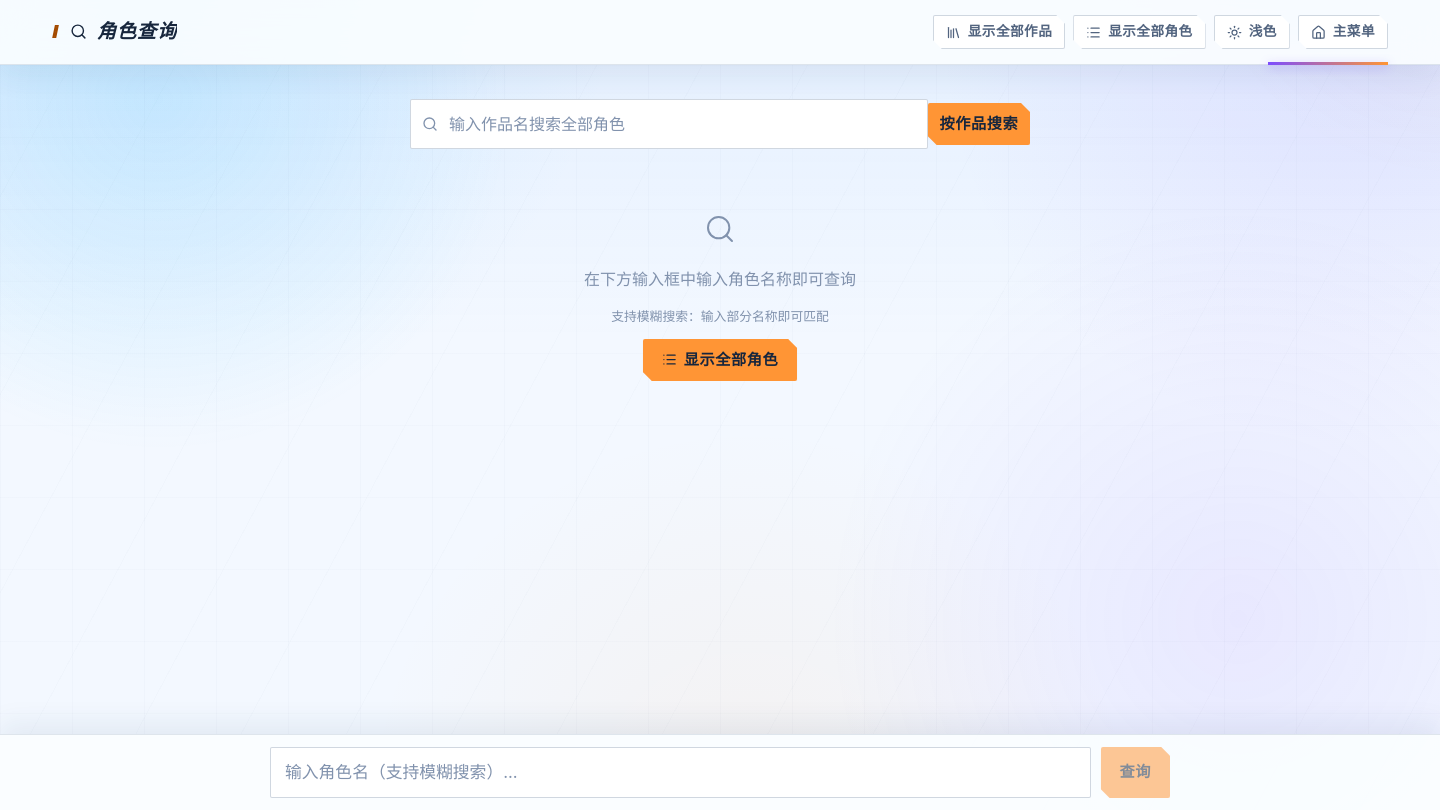
Test case: Search › shows all characters after clicking the show-all action
Click the button "显示全部角色" in the row of "主菜单".
click(1139, 32)  # box [1073,15,1206,49]
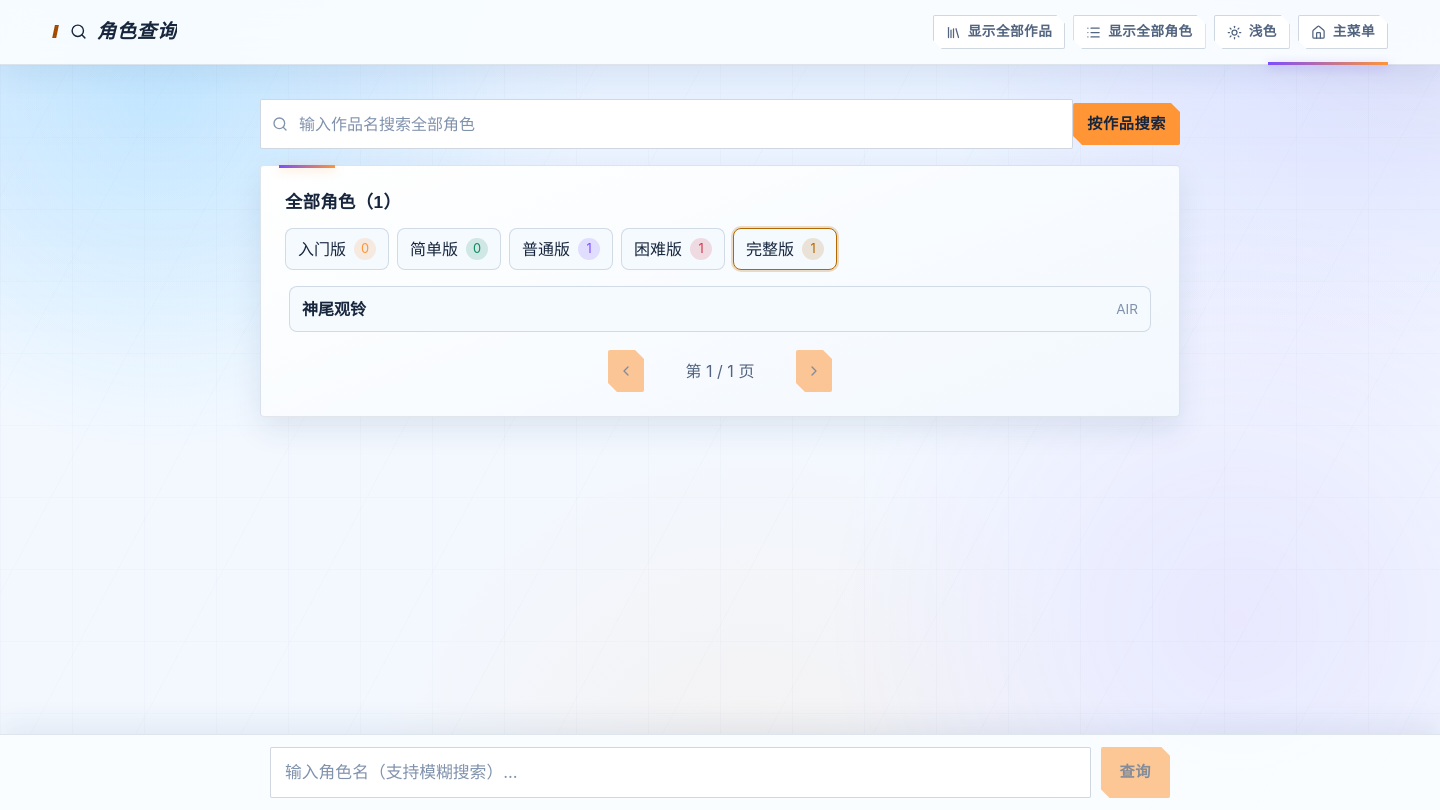
Now the text "神尾观铃" is shown, box [302,297,366,321]
Now the heading "全部角色（1）" is shown, box [285,192,401,212]
